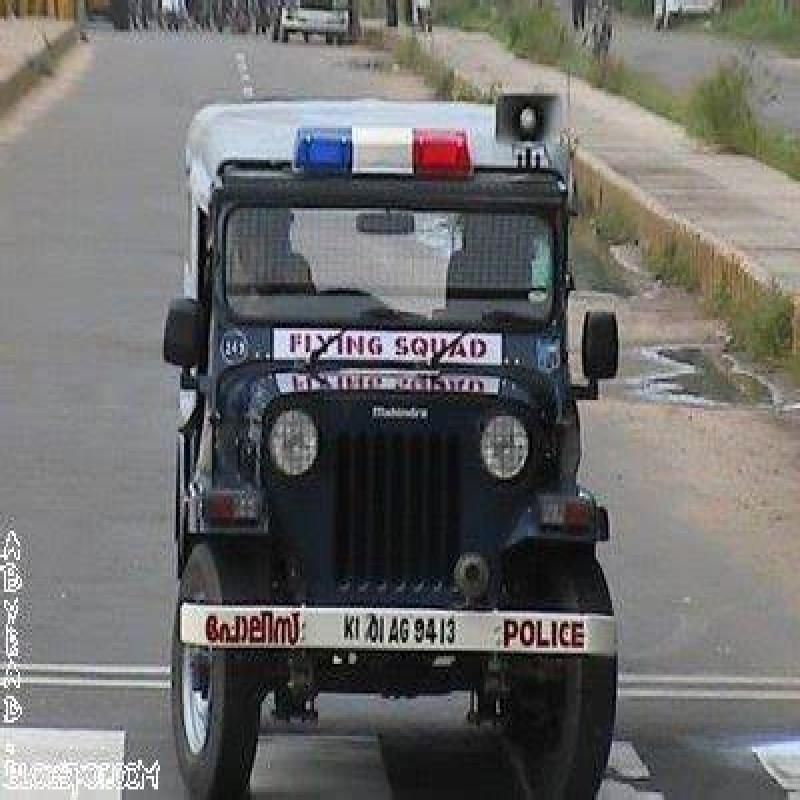AmbulanceSiren: (284, 109, 479, 188)
